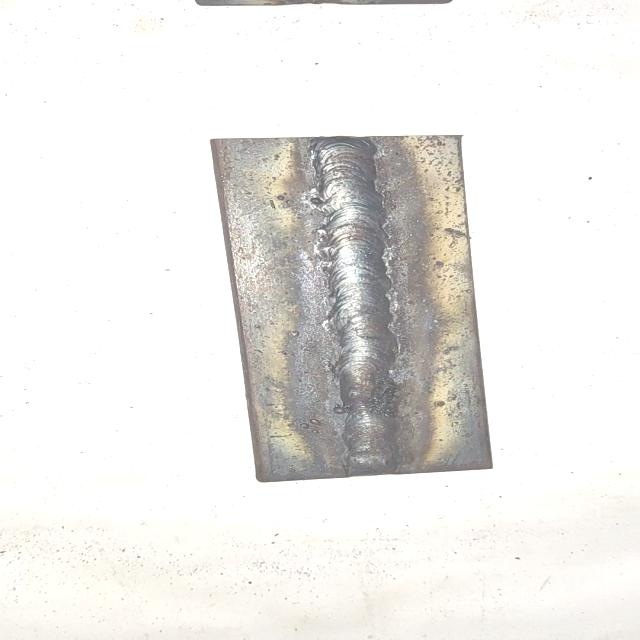Good Weld: (319, 142, 397, 472)
